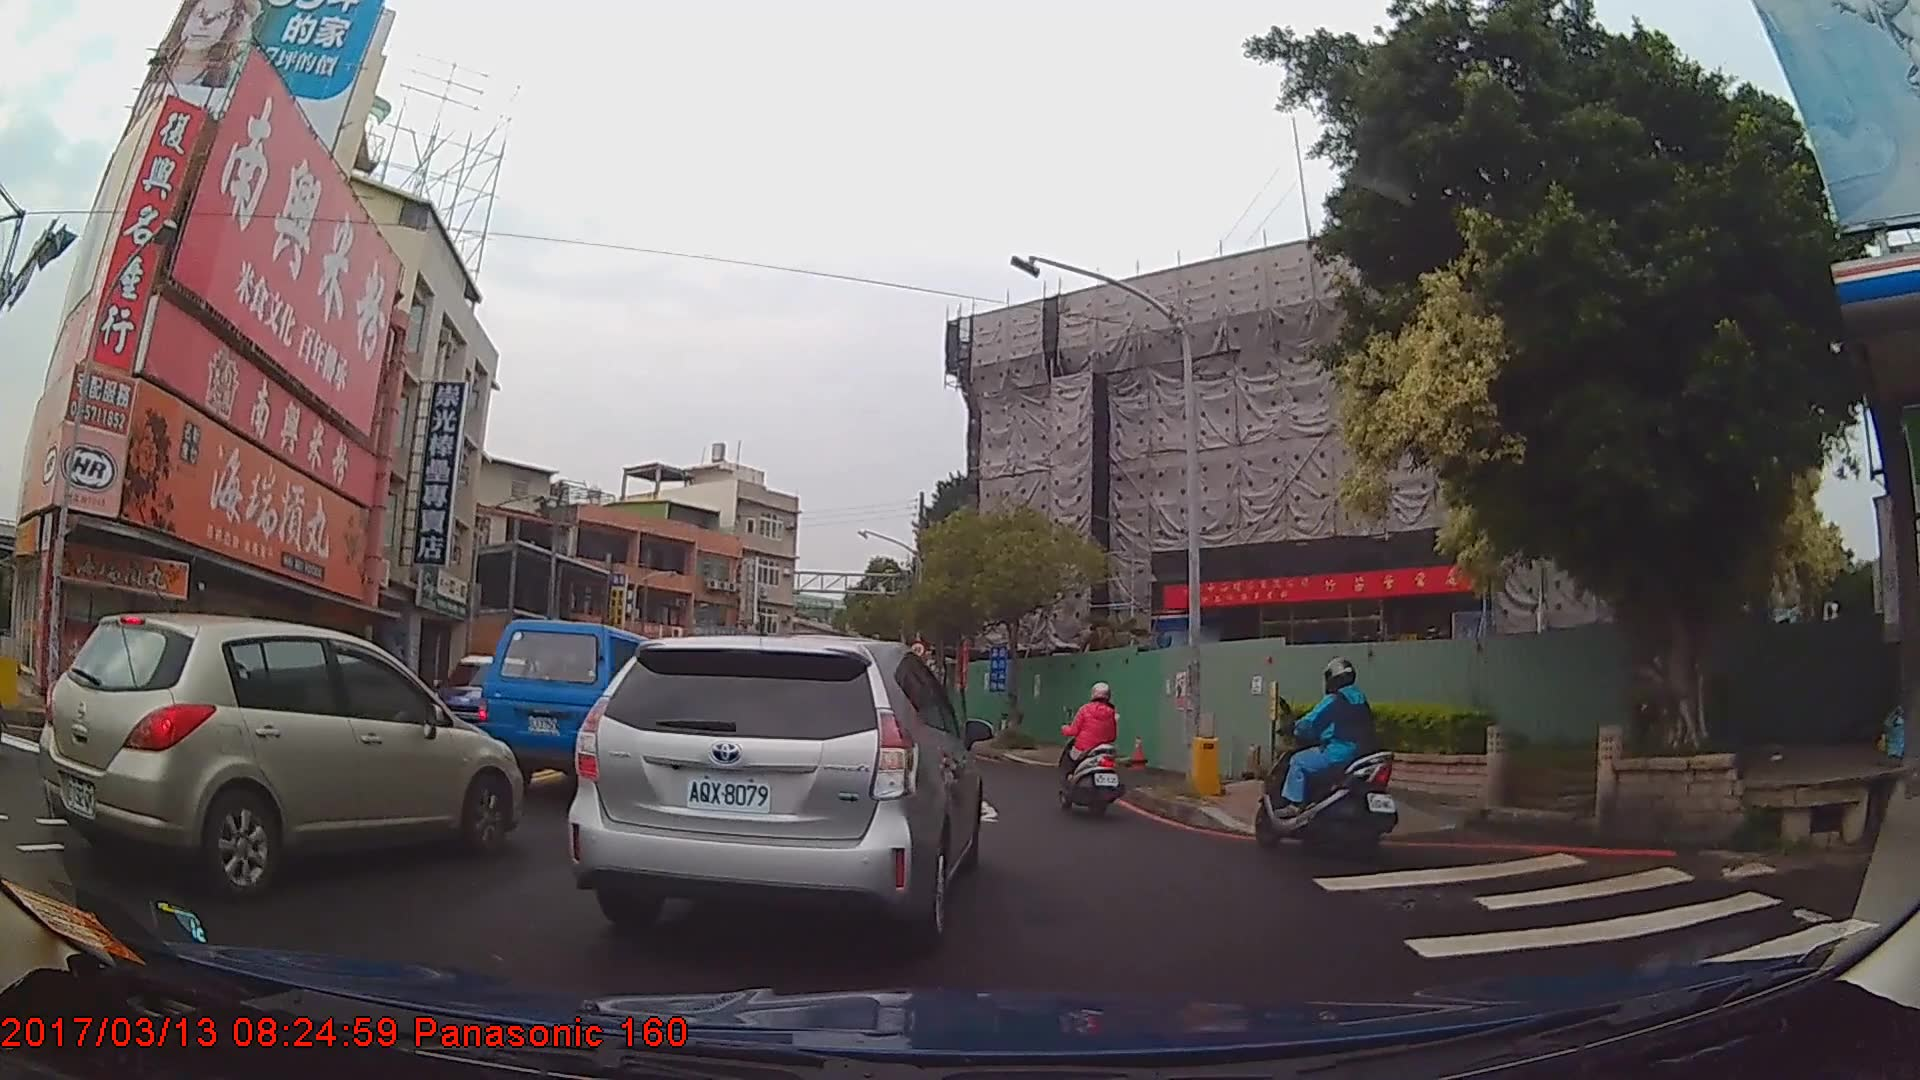rider: (1249, 665, 1396, 857), (1052, 679, 1124, 814)
vehicle: (32, 608, 520, 898), (561, 628, 983, 945), (475, 616, 670, 796), (417, 647, 549, 761)
